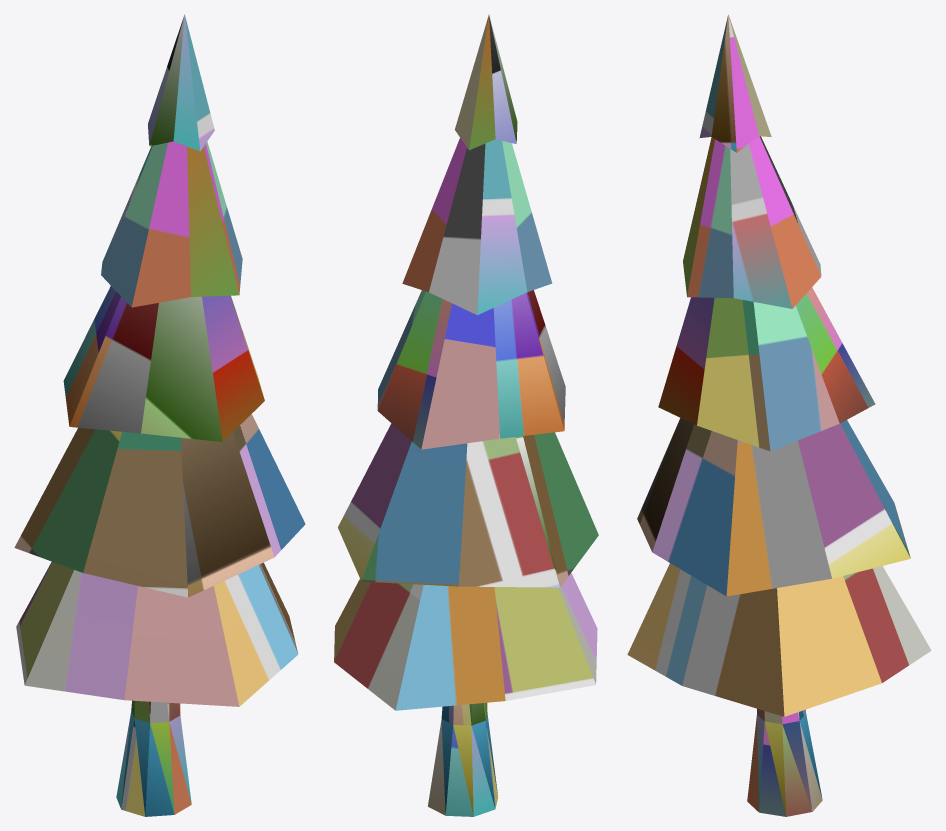
File: tree_c.glb
3 views of the same model, side by side, from view 1: azimuth 30°, elevation 25°; view 2: azimuth 150°, elevation 25°; view 3: azimuth 270°, elevation 25° (orthographic). The views are drawn at different scales.
Visible parts, largest first — view 1: Lowpoly_Pine_02_Orange_SimplePolygonPalette_0; view 2: Lowpoly_Pine_02_Orange_SimplePolygonPalette_0; view 3: Lowpoly_Pine_02_Orange_SimplePolygonPalette_0.
Boxes of the visible parts, x1,y1,x2,y2 form: Lowpoly_Pine_02_Orange_SimplePolygonPalette_0: [14, 14, 305, 816]; Lowpoly_Pine_02_Orange_SimplePolygonPalette_0: [334, 15, 598, 816]; Lowpoly_Pine_02_Orange_SimplePolygonPalette_0: [627, 14, 931, 816].
Size of the model in its own units: 2.01 by 5.74 by 2.01.
Materials: 1 (1 with a texture image).
